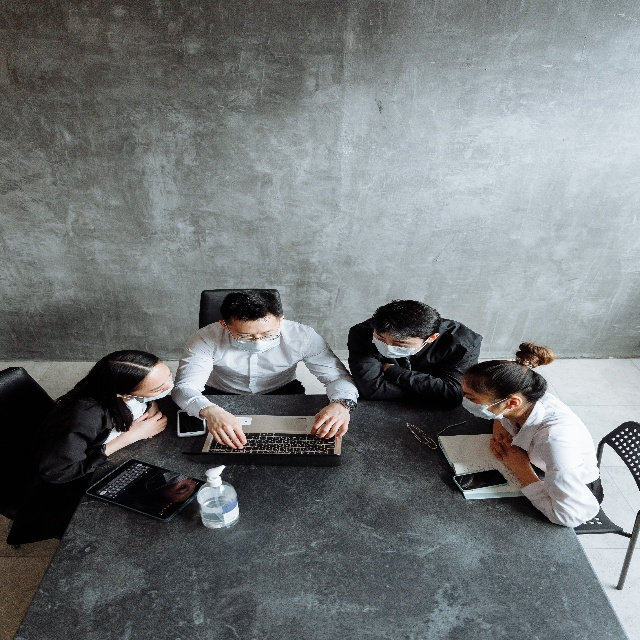Gafas: (222, 318, 281, 343), (406, 420, 438, 452)
Mascara: (222, 319, 281, 356), (371, 329, 432, 359), (123, 373, 174, 403), (462, 394, 508, 421)
Sin_guantes: (206, 404, 247, 451), (488, 432, 529, 474), (310, 401, 350, 441), (132, 408, 168, 438), (490, 430, 516, 462)
